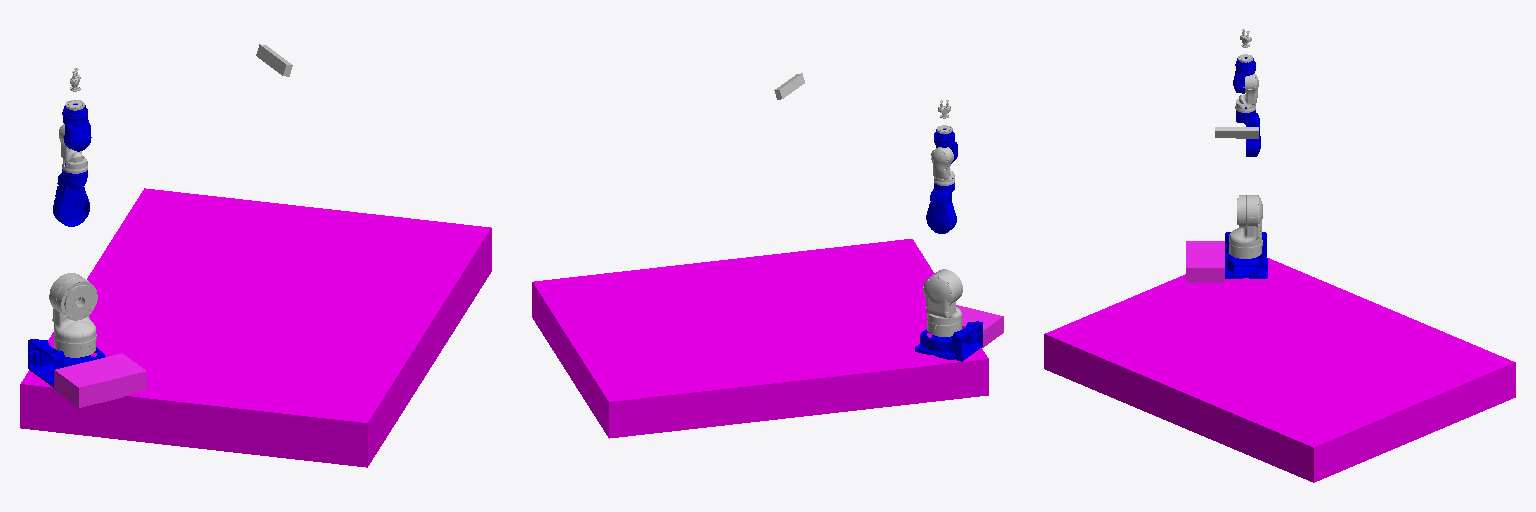
The robot description file, URDF, robot "motoman_vacumm":
<?xml version="1.0" ?>
<!-- =================================================================================== -->
<!-- |    This document was autogenerated by xacro from urdf/mantis.xacro              | -->
<!-- |    EDITING THIS FILE BY HAND IS NOT RECOMMENDED                                 | -->
<!-- =================================================================================== -->
<robot name="motoman_vacumm" xmlns:xacro="http://ros.org/wiki/xacro">
  <!-- instantiating arm and gripper -->
  <link name="base_link">
    <visual>
      <geometry>
        <mesh filename="package://motoman_config/meshes/sia20d/visual/MOTOMAN_BASE.stl"/>
      </geometry>
      <material name="blue">
        <color rgba="0 0 1 1"/>
      </material>
    </visual>
    <collision>
      <geometry>
        <mesh filename="package://motoman_config/meshes/sia20d/collision/MOTOMAN_BASE.stl"/>
      </geometry>
      <material name="yellow">
        <color rgba="0 1 1 1"/>
      </material>
    </collision>
  </link>
  <link name="link_s">
    <visual>
      <origin rpy="0 0 3.1416" xyz="0 0 0"/>
      <geometry>
        <mesh filename="package://motoman_config/meshes/sia20d/visual/MOTOMAN_AXIS_S.stl"/>
      </geometry>
      <material name="silver">
        <color rgba="0.8 0.8 0.8 1"/>
      </material>
    </visual>
    <collision>
      <origin rpy="0 0 3.1416" xyz="0 0 0"/>
      <geometry>
        <mesh filename="package://motoman_config/meshes/sia20d/collision/MOTOMAN_AXIS_S.stl"/>
      </geometry>
      <material name="yellow"/>
    </collision>
  </link>
  <link name="link_l">
    <visual>
      <origin rpy="1.57 3.1416 3.1416" xyz="0 0 0"/>
      <geometry>
        <mesh filename="package://motoman_config/meshes/sia20d/visual/MOTOMAN_AXIS_L.stl"/>
      </geometry>
      <material name="blue"/>
    </visual>
    <collision>
      <origin rpy="1.57 3.1416 3.1416" xyz="0 0 0"/>
      <geometry>
        <mesh filename="package://motoman_config/meshes/sia20d/collision/MOTOMAN_AXIS_L.stl"/>
      </geometry>
      <material name="yellow"/>
    </collision>
  </link>
  <link name="link_e">
    <visual>
      <origin rpy="0 0 0" xyz="0 0 0"/>
      <geometry>
        <mesh filename="package://motoman_config/meshes/sia20d/visual/MOTOMAN_AXIS_E.stl"/>
      </geometry>
      <material name="silver"/>
    </visual>
    <collision>
      <origin rpy="0 0 0" xyz="0 0 0"/>
      <geometry>
        <mesh filename="package://motoman_config/meshes/sia20d/collision/MOTOMAN_AXIS_E.stl"/>
      </geometry>
      <material name="yellow"/>
    </collision>
  </link>
  <link name="link_u">
    <visual>
      <origin rpy="1.57 -3.1415 3.1416" xyz="0 0 0"/>
      <geometry>
        <mesh filename="package://motoman_config/meshes/sia20d/visual/MOTOMAN_AXIS_U.stl"/>
      </geometry>
      <material name="blue"/>
    </visual>
    <collision>
      <origin rpy="1.57 -3.1415 3.1416" xyz="0 0 0"/>
      <geometry>
        <mesh filename="package://motoman_config/meshes/sia20d/collision/MOTOMAN_AXIS_U.stl"/>
      </geometry>
      <material name="yellow"/>
    </collision>
  </link>
  <link name="link_r">
    <visual>
      <origin rpy="0 0 0" xyz="0 0 0"/>
      <geometry>
        <mesh filename="package://motoman_config/meshes/sia20d/visual/MOTOMAN_AXIS_R.stl"/>
      </geometry>
      <material name="silver"/>
    </visual>
    <collision>
      <origin rpy="0 0 0" xyz="0 0 0"/>
      <geometry>
        <mesh filename="package://motoman_config/meshes/sia20d/collision/MOTOMAN_AXIS_R.stl"/>
      </geometry>
      <material name="yellow"/>
    </collision>
  </link>
  <link name="link_b">
    <visual>
      <origin rpy="-1.57 0 0" xyz="0 0 0"/>
      <geometry>
        <mesh filename="package://motoman_config/meshes/sia20d/visual/MOTOMAN_AXIS_B.stl"/>
      </geometry>
      <material name="blue"/>
    </visual>
    <collision>
      <origin rpy="-1.57 0 0" xyz="0 0 0"/>
      <geometry>
        <mesh filename="package://motoman_config/meshes/sia20d/collision/MOTOMAN_AXIS_B.stl"/>
      </geometry>
      <material name="yellow"/>
    </collision>
  </link>
  <link name="link_t">
    <visual>
      <geometry>
        <mesh filename="package://motoman_config/meshes/sia20d/visual/MOTOMAN_AXIS_T.stl"/>
      </geometry>
      <material name="silver"/>
    </visual>
    <collision>
      <geometry>
        <mesh filename="package://motoman_config/meshes/sia20d/collision/MOTOMAN_AXIS_T.stl"/>
      </geometry>
      <material name="yellow"/>
    </collision>
  </link>
  <joint name="joint_s" type="revolute">
    <parent link="base_link"/>
    <child link="link_s"/>
    <origin rpy="0 0 0" xyz="0 0 0.41"/>
    <axis xyz="0 0 1"/>
    <limit effort="100" lower="-3.1416" upper="3.1416" velocity="2.26"/>
  </joint>
  <joint name="joint_l" type="revolute">
    <parent link="link_s"/>
    <child link="link_l"/>
    <origin rpy="0 0 0" xyz="0 0 0"/>
    <axis xyz="0 1 0"/>
    <limit effort="100" lower="-1.91" upper="1.91" velocity="2.26"/>
  </joint>
  <joint name="joint_e" type="revolute">
    <parent link="link_l"/>
    <child link="link_e"/>
    <origin rpy="0 0 0" xyz="0 0 0.49"/>
    <axis xyz="0 0 1"/>
    <limit effort="100" lower="-2.96" upper="2.96" velocity="2.96"/>
  </joint>
  <joint name="joint_u" type="revolute">
    <parent link="link_e"/>
    <child link="link_u"/>
    <origin rpy="0 0 0" xyz="0 0 0"/>
    <axis xyz="0 -1 0"/>
    <limit effort="100" lower="-2.26" upper="2.26" velocity="2.96"/>
  </joint>
  <joint name="joint_r" type="revolute">
    <parent link="link_u"/>
    <child link="link_r"/>
    <origin rpy="0 0 0" xyz="0 0 0.420"/>
    <axis xyz="0 0 -1"/>
    <limit effort="100" lower="-3.1416" upper="3.1416" velocity="3.48"/>
  </joint>
  <joint name="joint_b" type="revolute">
    <parent link="link_r"/>
    <child link="link_b"/>
    <origin rpy="0 0 0" xyz="0 0 0"/>
    <axis xyz="0 -1 0"/>
    <limit effort="100" lower="-1.91" upper="1.91" velocity="3.48"/>
  </joint>
  <joint name="joint_t" type="revolute">
    <parent link="link_b"/>
    <child link="link_t"/>
    <origin rpy="0 0 0" xyz="0 0 0.18"/>
    <axis xyz="0 0 -1"/>
    <limit effort="100" lower="-3.1416" upper="3.1416" velocity="6.97"/>
  </joint>
  <link name="palm">
    <visual>
      <origin rpy="0 0 0" xyz="0 0.036 -0.1"/>
      <geometry>
        <mesh filename="package://mantis_config/config/meshes/vacuum_gripper.STL"/>
      </geometry>
      <material name="silver">
        <color rgba="0.8 0.8 0.8 1"/>
      </material>
    </visual>
    <collision>
      <origin rpy="0 0 0" xyz="0 0.036 -0.1"/>
      <geometry>
        <mesh filename="package://mantis_config/config/meshes/vacuum_gripper.stl"/>
      </geometry>
      <material name="another_blue2">
        <color rgba="0.38 0.54 0.83 1"/>
      </material>
    </collision>
  </link>
  <!-- property list -->
  <!-- link sub-blocks -->
  <!-- arm-gripper coupling links -->
  <link name="coupler">
    <visual>
      <geometry>
        <mesh filename="package://longhorn/meshes/coupler/visual/COUPLER.stl"/>
      </geometry>
      <material name="orange">
        <color rgba="1 0.5 0 1"/>
      </material>
    </visual>
    <collision>
      <geometry>
        <mesh filename="package://longhorn/meshes/coupler/collision/COUPLER.stl"/>
      </geometry>
      <material name="yellow">
        <color rgba="0 1 1 1"/>
      </material>
    </collision>
  </link>
  <!-- end of arm-gripper coupling links -->
  <!-- arm-gripper coupling joints -->
  <joint name="tool-coupler" type="fixed">
    <parent link="link_t"/>
    <child link="coupler"/>
    <origin rpy="1.570 0 -0.785" xyz="0 0 0"/>
  </joint>
  <joint name="coupler-hand" type="fixed">
    <parent link="coupler"/>
    <child link="palm"/>
    <origin rpy="-1.570 0 0" xyz="0 0.182 0.036"/>
  </joint>
  <!-- end of arm-gripper coupling joints -->
  <!-- environment objects -->
  <link name="table">
    <visual>
      <geometry>
        <box size="1.83 2.44 0.25"/>
      </geometry>
      <material name="">
        <color rgba="1 0 1 1"/>
      </material>
    </visual>
    <collision>
      <geometry>
        <box size="1.83 2.44 0.25"/>
      </geometry>
      <material name="">
        <color rgba="1 0 1 1"/>
      </material>
    </collision>
  </link>
  <link name="table_keepout_1">
    <collision>
      <geometry>
        <box size="2.08 0.25 2"/>
      </geometry>
      <material name="">
        <color rgba="1 0.2 1 0.1"/>
      </material>
    </collision>
  </link>
  <link name="table_keepout_2">
    <collision>
      <geometry>
        <box size="0.25 2.69 2"/>
      </geometry>
      <material name="">
        <color rgba="1 0.2 1 0.1"/>
      </material>
    </collision>
  </link>
  <link name="power_supply">
    <visual>
      <geometry>
        <box size="0.400 0.250 0.115"/>
      </geometry>
      <material name="">
        <color rgba="1 0.2 1 0.1"/>
      </material>
    </visual>
    <collision>
      <geometry>
        <box size="0.400 0.250 0.115"/>
      </geometry>
      <material name="">
        <color rgba="1 0.2 1 0.1"/>
      </material>
    </collision>
  </link>
  <link name="kinect_keepout">
    <collision>
      <geometry>
        <box size="0.25 2.69 2"/>
      </geometry>
      <material name="">
        <color rgba="1 0.2 1 0.1"/>
      </material>
    </collision>
  </link>
  <link name="kinect">
    <collision>
      <geometry>
        <box size="0.36 0.28 0.22"/>
      </geometry>
      <material name="">
        <color rgba="1 0.8 1 0.1"/>
      </material>
    </collision>
  </link>
  <!-- end of environment objects -->
  <!-- environment joints -->
  <joint name="base-table" type="fixed">
    <parent link="base_link"/>
    <child link="table"/>
    <origin rpy="0 0 -0.785" xyz="1.19 0.22 -0.125"/>
  </joint>
  <joint name="base-kinect" type="fixed">
    <parent link="base_link"/>
    <child link="kinect"/>
    <origin rpy="0 1.25 3.13" xyz="1.14 -0.055 1.5"/>
  </joint>
<!--	<link name="kinect1">
		<visual>
			<origin rpy="0 0 0" xyz="0 0 0"/>
			<geometry>
				<sphere radius="0.0005"/>
			</geometry>
		</visual>
	</link>
	<link name="kinect2">
		<visual>
			<origin rpy="0 0 0" xyz="0 0 0"/>
			<geometry>
				<sphere radius="0.0005"/>
			</geometry>
		</visual>
	</link>
	<link name="kinect3">
		<visual>
			<origin rpy="0 0 0" xyz="0 0 0"/>
			<geometry>
				<sphere radius="0.0005"/>
			</geometry>
		</visual>
	</link>
	<link name="kinect4">
		<visual>
			<origin rpy="0 0 0" xyz="0 0 0"/>
			<geometry>
				<sphere radius="0.0005"/>
			</geometry>
		</visual>
	</link>
	<link name="kinect5">
		<visual>
			<origin rpy="0 0 0" xyz="0 0 0"/>
			<geometry>
				<sphere radius="0.0005"/>
			</geometry>
		</visual>
	</link>
	<link name="kinect6">
		<visual>
			<origin rpy="0 0 0" xyz="0 0 0"/>
			<geometry>
				<sphere radius="0.0005"/>
			</geometry>
		</visual>
	</link>
  <joint name="base-kinect1" type="fixed"> 
    <parent link="base_link"/>
    <child link="kinect1"/>
    <origin rpy="0 0 0" xyz="0 0 1.5"/>
  </joint>
  <joint name="kinect1-kinect2" type="fixed">
    <parent link="kinect1"/>
    <child link="kinect2"/>
    <origin rpy="0 0 0" xyz="0 -0.055 0"/>
  </joint>
  <joint name="kinect2-kinect3" type="fixed">
    <parent link="kinect2"/>
    <child link="kinect3"/>
    <origin rpy="0 0 0" xyz="1.14 0 0"/>
  </joint>
  <joint name="kinect3-kinect4" type="fixed">
    <parent link="kinect3"/>
    <child link="kinect4"/>
    <origin rpy="0 0 3.13" xyz="0 0 0"/>
  </joint>
  <joint name="kinect4-kinect5" type="fixed">
    <parent link="kinect4"/>
    <child link="kinect5"/>
    <origin rpy="0 1.25 0" xyz="0 0 0"/>
  </joint>
  <joint name="kinect5-kinect6" type="fixed">
    <parent link="kinect5"/>
    <child link="kinect6"/>
    <origin rpy="0 0 0" xyz="0 0 0"/>
  </joint>
  <joint name="kinect6-kinect" type="fixed">
    <parent link="kinect5"/>
    <child link="kinect"/>
    <origin rpy="0 0 0" xyz="0 0 0"/>
  </joint> -->
<!-- END EXPERIMENT base_link to kinect-->
  <joint name="table-keepout_1" type="fixed">
    <parent link="table"/>
    <child link="table_keepout_1"/>
    <origin rpy="0 0 0" xyz="0 -1.34 1"/>
  </joint>
  <joint name="table-keepout_2" type="fixed">
    <parent link="table"/>
    <child link="table_keepout_2"/>
    <origin rpy="0 0 0" xyz="-1.025 0 1"/>
  </joint>
  <joint name="base-power_supply" type="fixed">
    <parent link="base_link"/>
    <child link="power_supply"/>
    <origin rpy="0 0 0" xyz="0 -0.260 0.050"/>
  </joint>
  <joint name="table-kinect" type="fixed">
    <parent link="table"/>
    <child link="kinect_keepout"/>
    <origin rpy="0 0 0" xyz=".5 0 1"/>
  </joint>
  <!-- end of environment joints -->
  <!-- sensor links -->
  <link name="kinect_frame">
    <visual>
      <origin rpy="0 0 0" xyz="0 0 0"/>
      <geometry>
        <box size="0.064 0.28 0.04"/>
      </geometry>
      <material name="silver"/>
    </visual>
    <collision>
      <origin rpy="0 0 0" xyz="0 0 0"/>
      <geometry>
        <box size="0.064 0.28 0.04"/>
      </geometry>
    </collision>
  </link>
  <link name="kinect_ir_link">
    <visual>
      <origin rpy="0 0 0" xyz="0 0 0"/>
      <geometry>
        <sphere radius="0.0005"/>
      </geometry>
    </visual>
  </link>
  <link name="kinect_rgb_link">
    <visual>
      <origin rpy="0 0 0" xyz="0 0 0"/>
      <geometry>
        <sphere radius="0.0005"/>
      </geometry>
    </visual>
  </link>
  <link name="kinect_ir_optical_frame"/>
  <link name="kinect_rgb_optical_frame"/>
  <!-- end of sensor links -->
  <!-- sensor joints -->
  <joint name="kinect_frame_joint" type="fixed">
    <parent link="kinect"/>
    <child link="kinect_frame"/>
    <origin rpy="0 0 0" xyz="0 0 0"/>
  </joint>
  <joint name="kinect_ir_joint" type="fixed">
    <parent link="kinect_frame"/>
    <child link="kinect_ir_link"/>
    <origin rpy="0 0 0" xyz="0 0 0"/>
  </joint>
  <joint name="kinect_ir_optical_frame_joint" type="fixed">
    <parent link="kinect_ir_link"/>
    <child link="kinect_ir_optical_frame"/>
    <origin rpy="-1.57 0 -1.57" xyz="0 0 0"/>
  </joint>
  <joint name="kinect_rgb_joint" type="fixed">
    <parent link="kinect_ir_link"/>
    <child link="kinect_rgb_link"/>
    <origin rpy="0 0 0" xyz="0 -0.03 0"/>
  </joint>
  <joint name="kinect_rgb_optical_frame_joint" type="fixed">
    <parent link="kinect_rgb_link"/>
    <child link="kinect_rgb_optical_frame"/>
    <origin rpy="-1.57 0 -1.57" xyz="0 0 0"/>
  </joint>
  <!-- end of sensor joints -->
</robot>

--- What the picture shows (computed from the rendered views, not written in the file) ---
Views: 3 orthographic renders of the robot side by side, from view 1: azimuth 30°, elevation 25°; view 2: azimuth 150°, elevation 25°; view 3: azimuth 270°, elevation 25°.
Robot: motoman_vacumm — 21 links, 20 joints (7 revolute, 13 fixed); root link base_link; default pose: all joints at 0.
Visible links, largest first — view 1: table, power_supply, link_s, link_u, base_link, link_b, link_r, kinect_frame; view 2: table, link_s, base_link, link_u, power_supply, link_r; view 3: table, link_s, power_supply, base_link, link_r, link_u.
Link boxes in pixels (x1,y1,x2,y2): table: (20,188,491,467); power_supply: (54,353,146,407); link_s: (49,273,97,357); link_u: (53,163,89,226); base_link: (28,339,105,387); link_b: (62,104,91,151); link_r: (59,124,87,173); kinect_frame: (256,44,292,76); table: (532,239,988,438); link_s: (923,269,962,336); base_link: (915,321,982,361); link_u: (926,178,956,233); power_supply: (929,305,1003,347); link_r: (931,147,954,185); table: (1044,257,1515,482); link_s: (1229,195,1262,258); power_supply: (1186,241,1224,282); base_link: (1225,232,1267,278); link_r: (1235,73,1258,112); link_u: (1236,107,1260,156).
Bounding box of the posed robot: 3.02 × 3.02 × 1.94 m (x, y, z).
7 mesh visuals loaded from 10 distinct referenced files (7 binary STL); not drawn: 3 (reference not matched to a file when rendering).